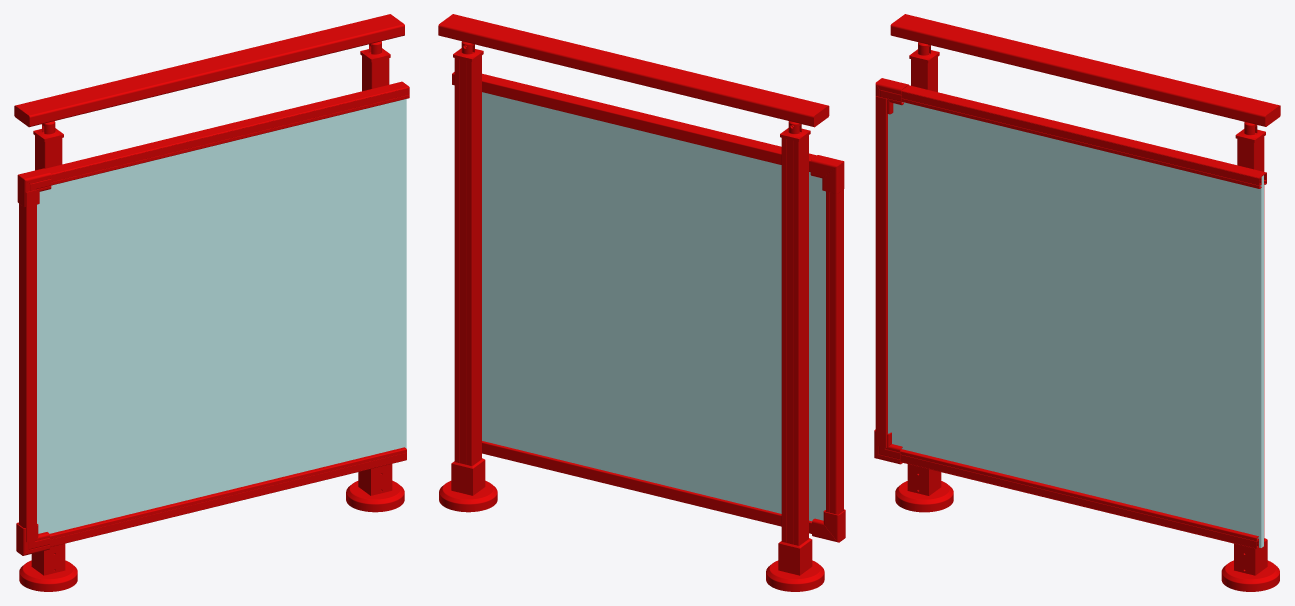
File: start.glb
3 views of the same model, side by side, from view 1: azimuth 30°, elevation 25°; view 2: azimuth 150°, elevation 25°; view 3: azimuth 330°, elevation 25° (orthographic).
Parts seen in each view (by area): view 1: glass, leg; view 2: glass, leg; view 3: glass, leg.
Part boxes in pixels (x1,y1,x2,y2): glass: (37,99,406,533); leg: (14,14,409,591); glass: (482,92,825,521); leg: (438,14,845,591); glass: (888,102,1263,547); leg: (874,14,1280,591).
Bounding box in the file's own units: 2.39 × 2.78 × 0.3102.
